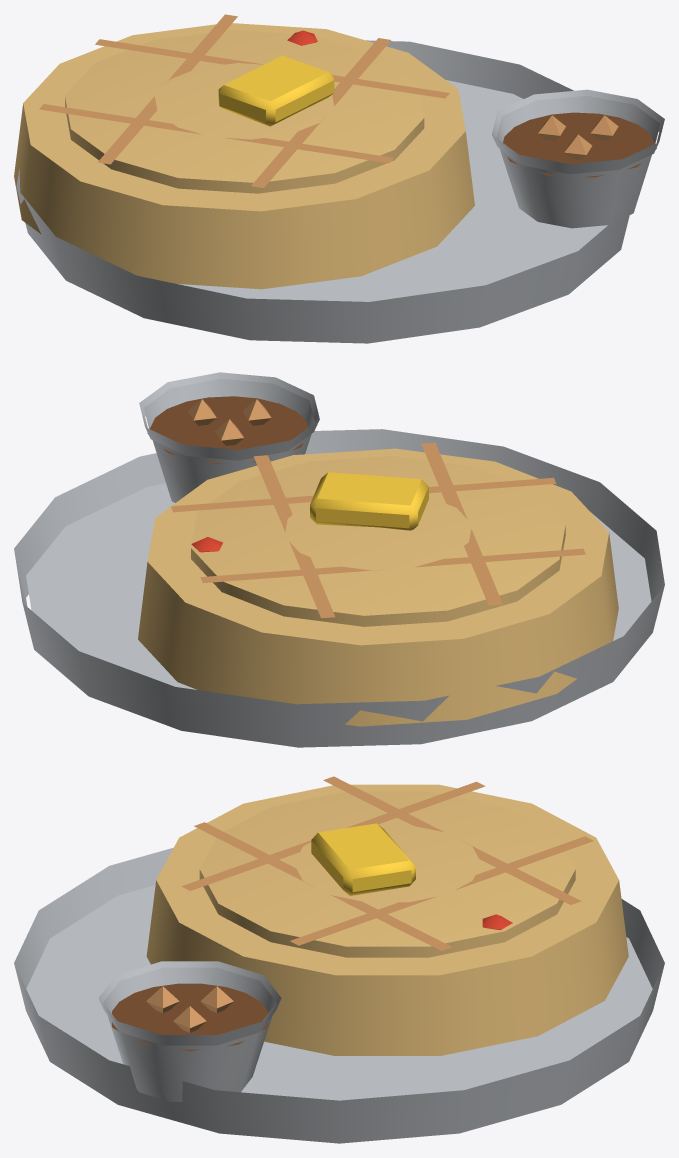
The model's file is pass_kulcha.glb.
3 views of the same model, one above another, from view 1: azimuth 30°, elevation 25°; view 2: azimuth 150°, elevation 25°; view 3: azimuth 270°, elevation 25° (orthographic). The views are drawn at different scales.
Parts seen in each view (by area): view 1: pass_kulcha; view 2: pass_kulcha; view 3: pass_kulcha.
Boxes of the visible parts, box(x1,y1,x2,y2) form: pass_kulcha: box(14, 14, 664, 343); pass_kulcha: box(14, 372, 664, 747); pass_kulcha: box(14, 776, 664, 1143).
Size of the model in its own units: 0.27 by 0.066 by 0.27.
Materials: 1 (1 with a texture image).
